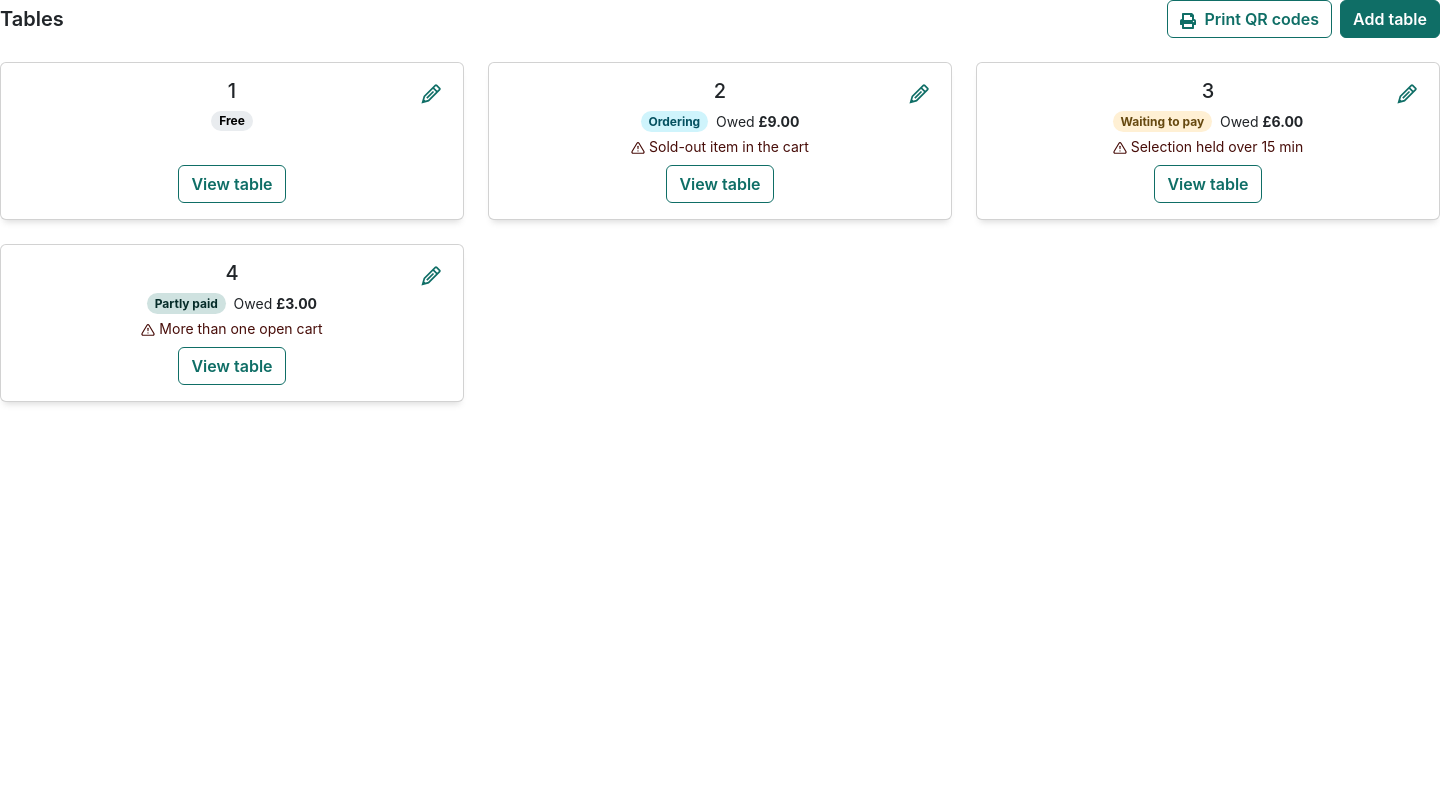
Test: table sheet › shows the table's items, who has selected what and for how long, and its payments
Click the button with aria-label "View table 3": [1208, 184] box [1154,165,1262,203]
(page scrolled)
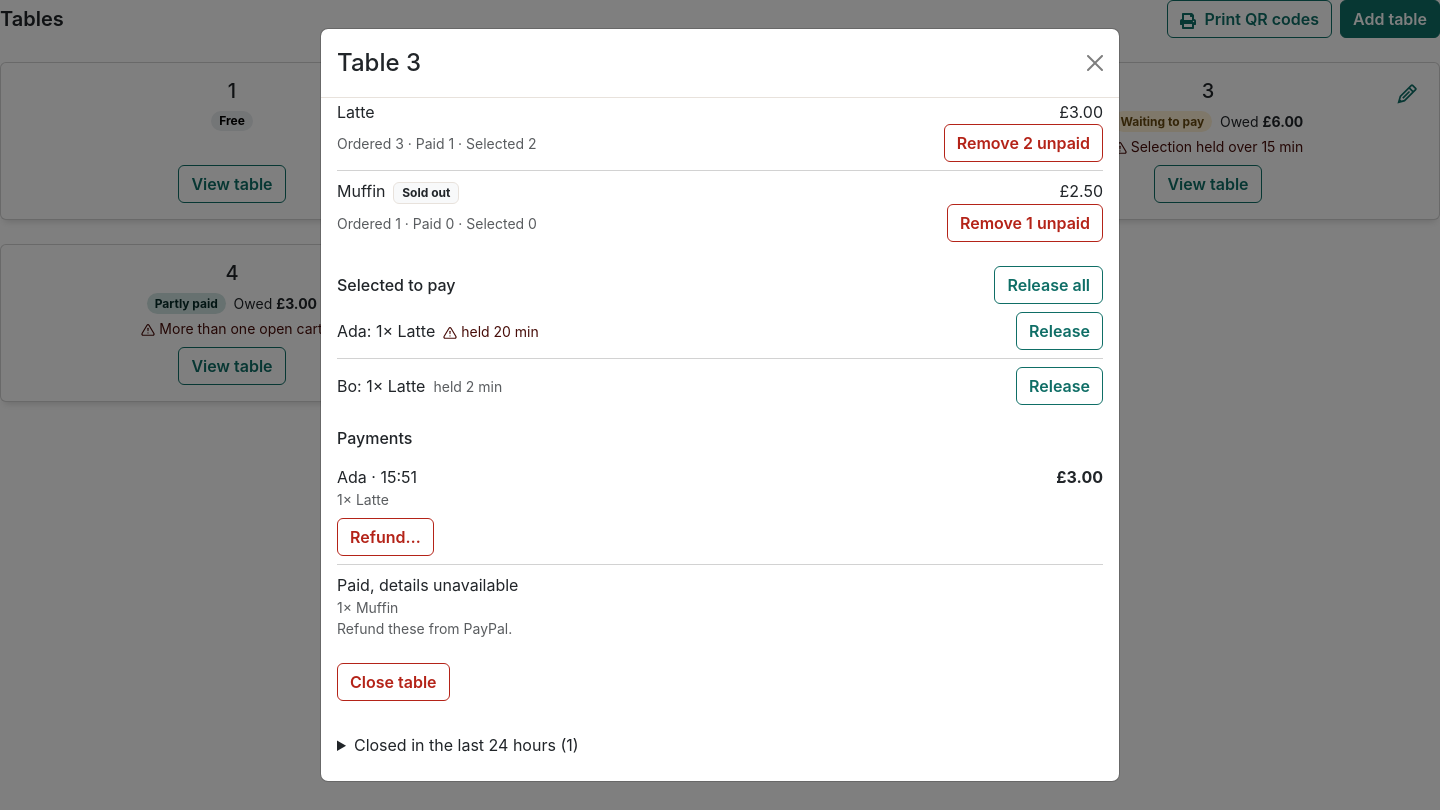
Expected: the text "Table 3" is shown, [337,45,421,81]
Expected: the text "Latte" is shown, [337,100,375,124]
Expected: the text "Ordered 3 · Paid 1 · Selected 2" is shown, [337,133,536,154]
